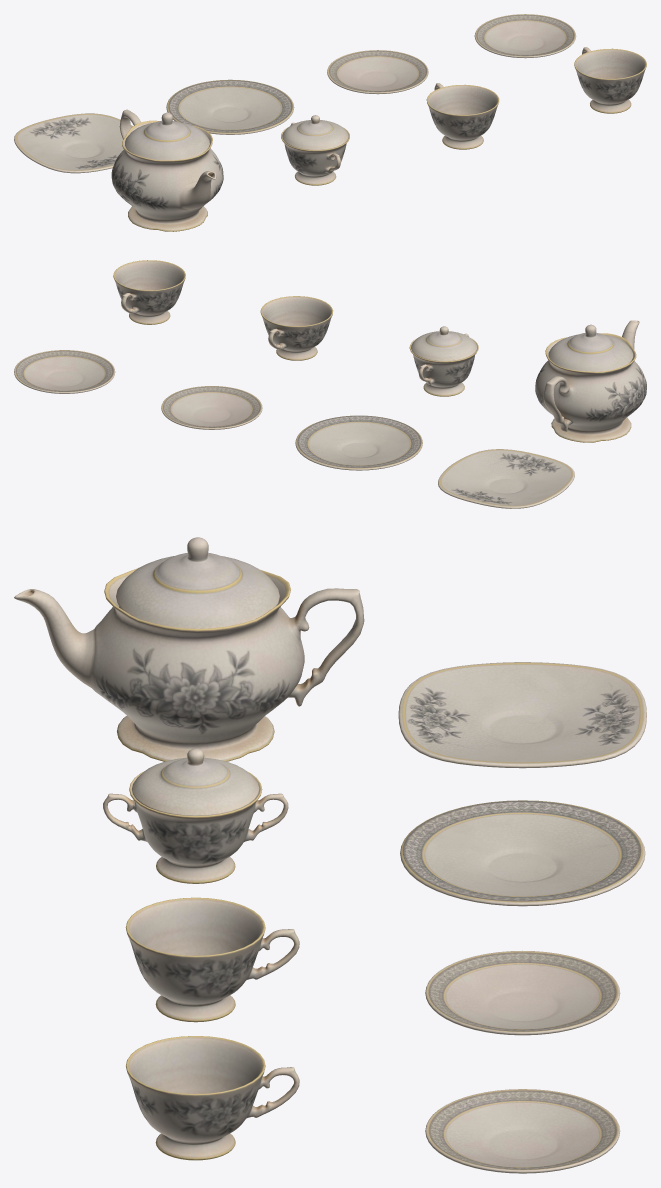
File: tea_set_01_4k-v1.glb
The picture shows the model from 3 angles, top to bottom: view 1: azimuth 30°, elevation 25°; view 2: azimuth 150°, elevation 25°; view 3: azimuth 270°, elevation 25°; orthographic projection. The views are drawn at different scales.
Visible parts, largest first — view 1: tea_set_01_teapot_01, tea_set_01_plate_large_circular_03, tea_set_01_plate_large_square_01, tea_set_01_cup_small_01, tea_set_01_cup_small_02, tea_set_01_saucer_circular_03, tea_set_01_saucer_circular_04, tea_set_01_teapot_01_lid, tea_set_01_sugar_cup_01, tea_set_01_sugar_cup_01_lid; view 2: tea_set_01_teapot_01, tea_set_01_plate_large_square_01, tea_set_01_plate_large_circular_03, tea_set_01_cup_small_01, tea_set_01_cup_small_02, tea_set_01_saucer_circular_04, tea_set_01_saucer_circular_03, tea_set_01_teapot_01_lid, tea_set_01_sugar_cup_01, tea_set_01_sugar_cup_01_lid; view 3: tea_set_01_teapot_01, tea_set_01_plate_large_square_01, tea_set_01_plate_large_circular_03, tea_set_01_cup_small_01, tea_set_01_cup_small_02, tea_set_01_saucer_circular_03, tea_set_01_saucer_circular_04, tea_set_01_teapot_01_lid, tea_set_01_sugar_cup_01, tea_set_01_sugar_cup_01_lid.
Boxes of the visible parts, x1,y1,x2,y2 form: tea_set_01_teapot_01: (111,109,223,231); tea_set_01_plate_large_circular_03: (166,79,294,134); tea_set_01_plate_large_square_01: (14,113,133,173); tea_set_01_cup_small_01: (426,83,499,149); tea_set_01_cup_small_02: (574,47,646,113); tea_set_01_saucer_circular_03: (474,14,576,58); tea_set_01_saucer_circular_04: (327,50,428,94); tea_set_01_teapot_01_lid: (125,112,209,160); tea_set_01_sugar_cup_01: (281,122,349,185); tea_set_01_sugar_cup_01_lid: (282,115,348,150); tea_set_01_teapot_01: (535,320,646,442); tea_set_01_plate_large_square_01: (438,449,574,508); tea_set_01_plate_large_circular_03: (295,415,422,470); tea_set_01_cup_small_01: (260,296,333,360); tea_set_01_cup_small_02: (113,260,185,324); tea_set_01_saucer_circular_04: (161,386,262,429); tea_set_01_saucer_circular_03: (14,350,115,393); tea_set_01_teapot_01_lid: (548,324,633,371); tea_set_01_sugar_cup_01: (409,333,478,396); tea_set_01_sugar_cup_01_lid: (411,326,477,361); tea_set_01_teapot_01: (14,568,364,761); tea_set_01_plate_large_square_01: (398,662,646,768); tea_set_01_plate_large_circular_03: (400,800,645,906); tea_set_01_cup_small_01: (125,897,299,1022); tea_set_01_cup_small_02: (126,1036,299,1160); tea_set_01_saucer_circular_03: (425,1089,620,1173); tea_set_01_saucer_circular_04: (425,950,620,1035); tea_set_01_teapot_01_lid: (116,537,279,628); tea_set_01_sugar_cup_01: (103,771,288,883); tea_set_01_sugar_cup_01_lid: (131,748,259,815).
Bounding box in the file's own units: 0.9185 × 0.165 × 0.4839.
1 material, 1 textured.
